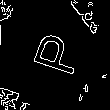P_W: (18, 29, 81, 80)
